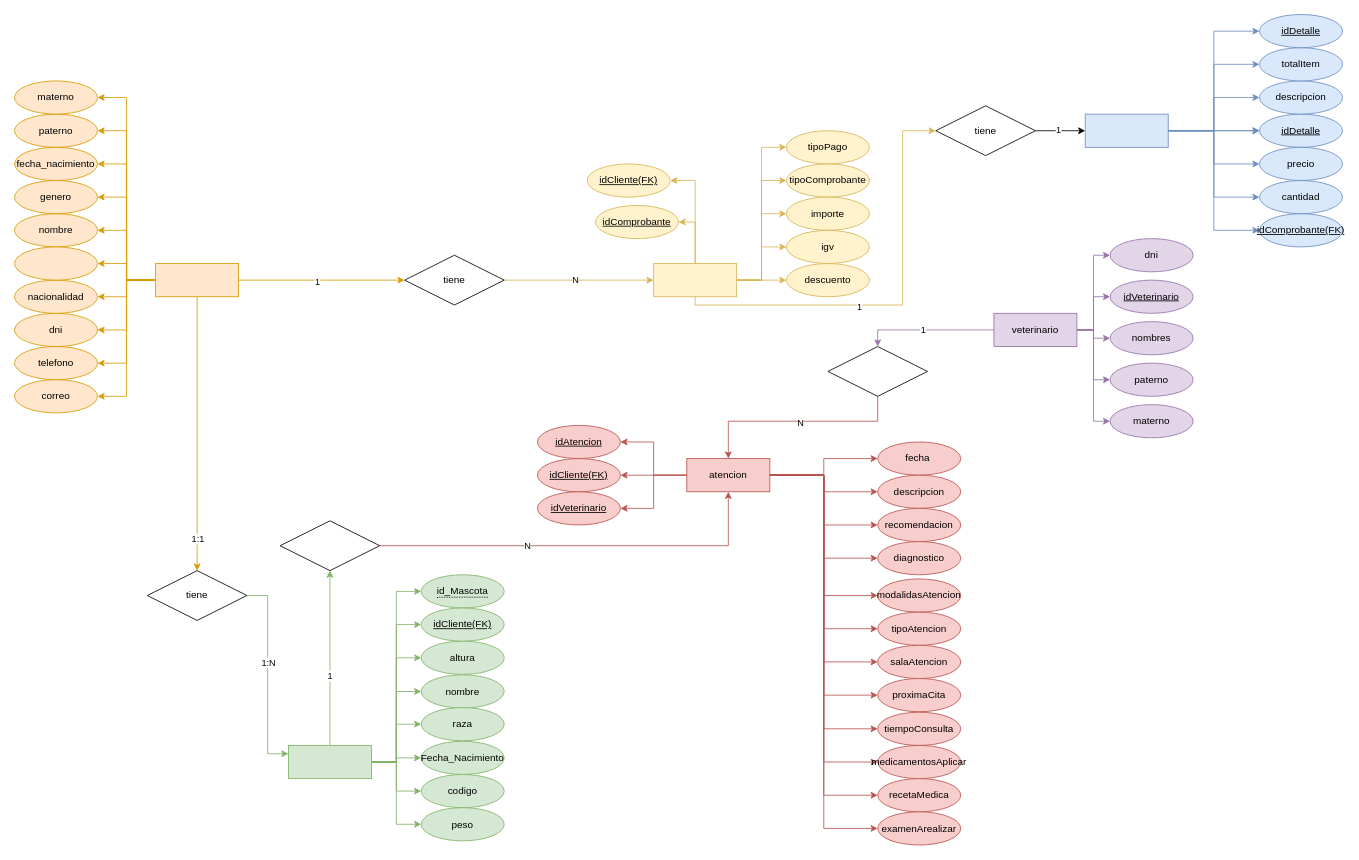
Some shapes in this 1359 by 860 pixel diagram are drawn without their labels. The centre of each missing label's shape, as x and y in pixels:
atiende: pixel 877 371
cliente: pixel 197 280
comprobante: pixel 695 280
detalle: pixel 1126 130
idCliente: pixel 56 263
mascota: pixel 329 762
realiza: pixel 329 545
